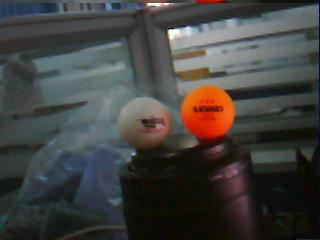oball: (181, 85, 235, 140)
